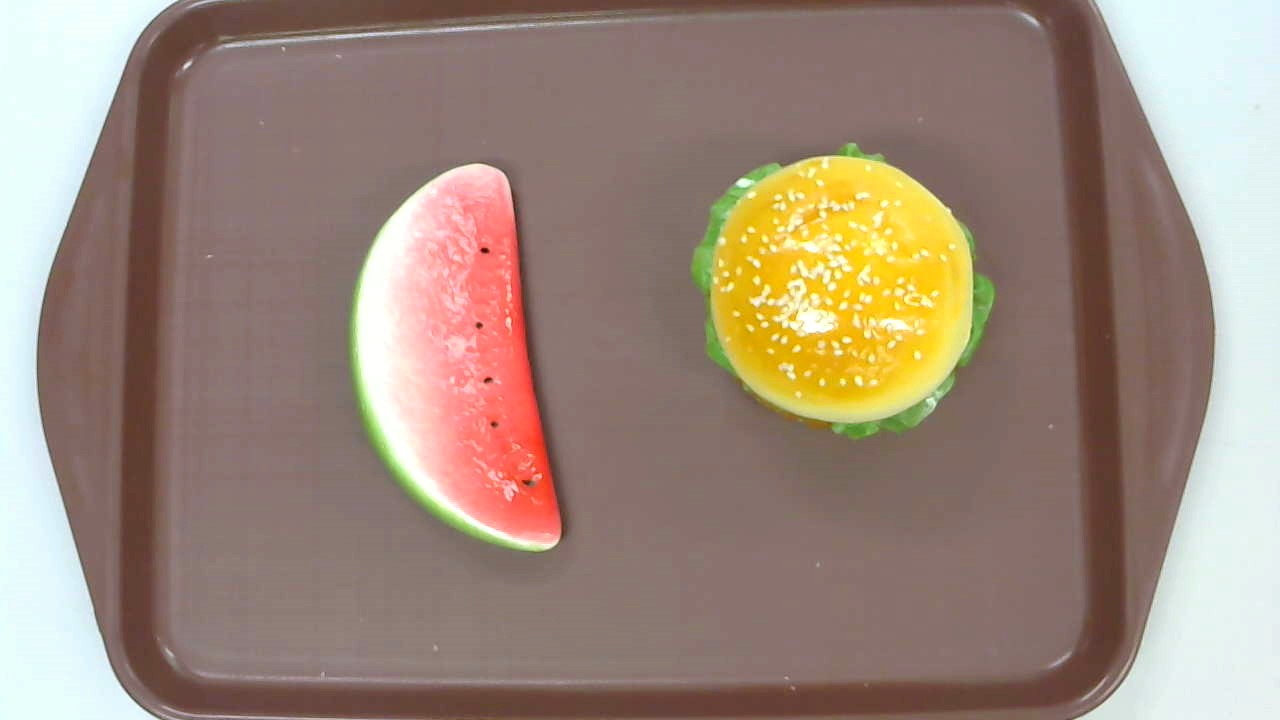hamburger: (690, 143, 996, 441)
water melon: (347, 163, 563, 553)
